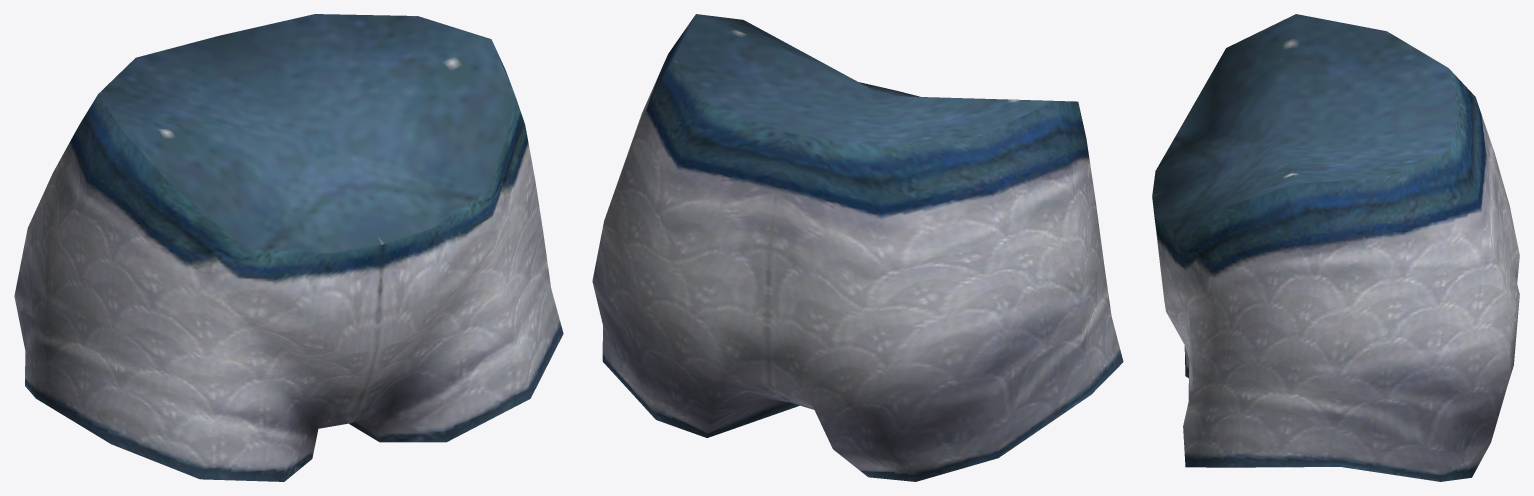
3 views of the same model, side by side, from view 1: azimuth 30°, elevation 25°; view 2: azimuth 150°, elevation 25°; view 3: azimuth 270°, elevation 25° (orthographic). The views are drawn at different scales.
Parts seen in each view (by area): view 1: clothes_01_la; view 2: clothes_01_la; view 3: clothes_01_la.
Boxes of the visible parts, left/top/right/bottom form: clothes_01_la: left=14, top=14, right=563, bottom=481; clothes_01_la: left=592, top=14, right=1123, bottom=481; clothes_01_la: left=1152, top=14, right=1519, bottom=481.
Size of the model in its own units: 0.3349 by 0.2242 by 0.2296.
1 material, 1 textured.
